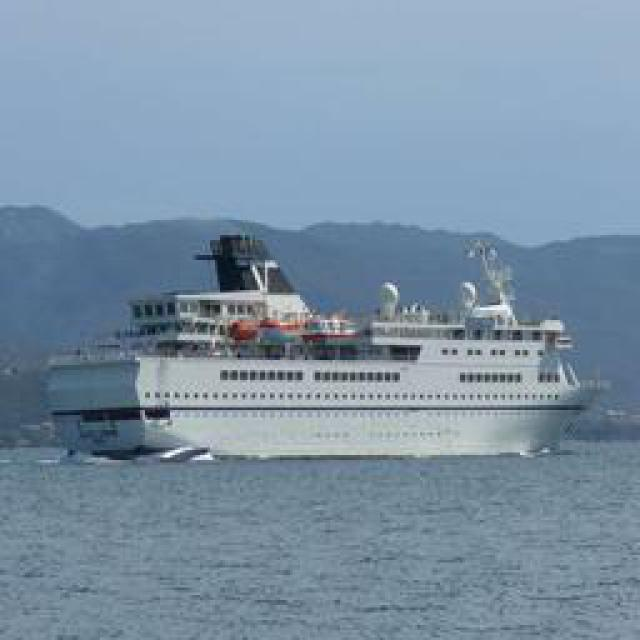Ship: (48, 229, 606, 464)
